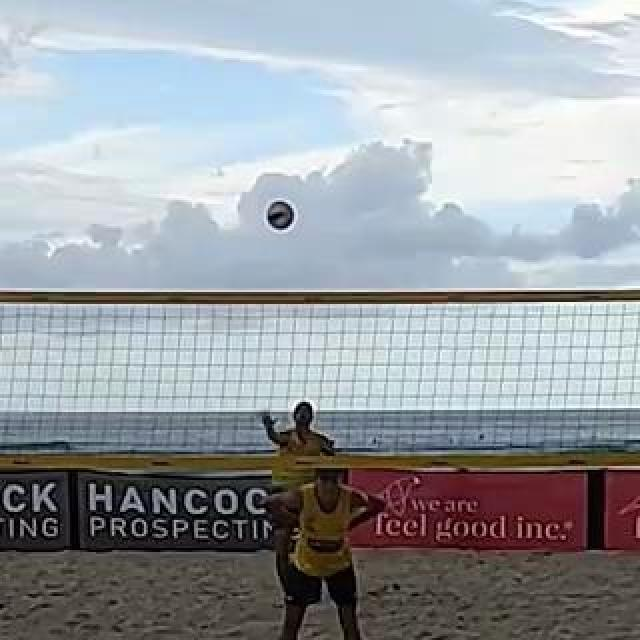volleyball: (267, 200, 297, 230)
